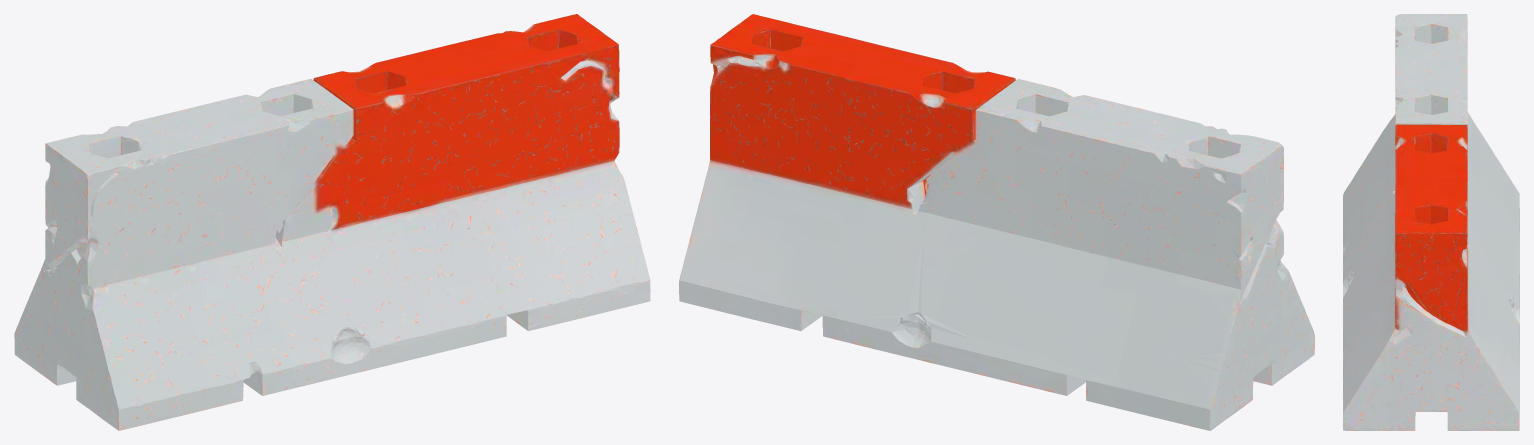
File: barrier-wall.glb
3 views of the same model, side by side, from view 1: azimuth 30°, elevation 25°; view 2: azimuth 150°, elevation 25°; view 3: azimuth 270°, elevation 25° (orthographic). The views are drawn at different scales.
Parts seen in each view (by area): view 1: geometry_0; view 2: geometry_0; view 3: geometry_0.
Boxes of the visible parts, box(x1,y1,x2,y2) form: geometry_0: box(14, 14, 650, 430); geometry_0: box(679, 14, 1314, 430); geometry_0: box(1343, 14, 1519, 430).
Bounding box in the file's own units: 1 × 0.4219 × 0.3415.
Materials: 1 (1 with a texture image).
